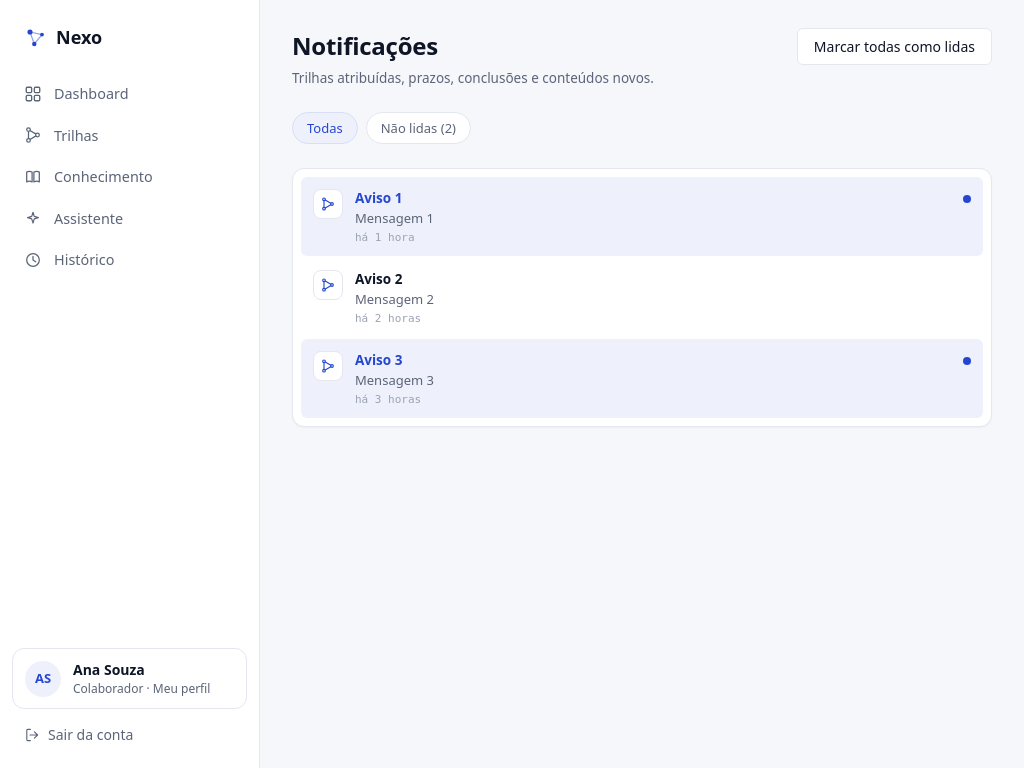
Scenario: NotificacoesPage › filtra só as não lidas
expect the text "Aviso 2" is shown: met, box [355, 270, 402, 288]
Click the button "Não lidas (2)".
click(418, 128)  # box [366, 112, 471, 144]
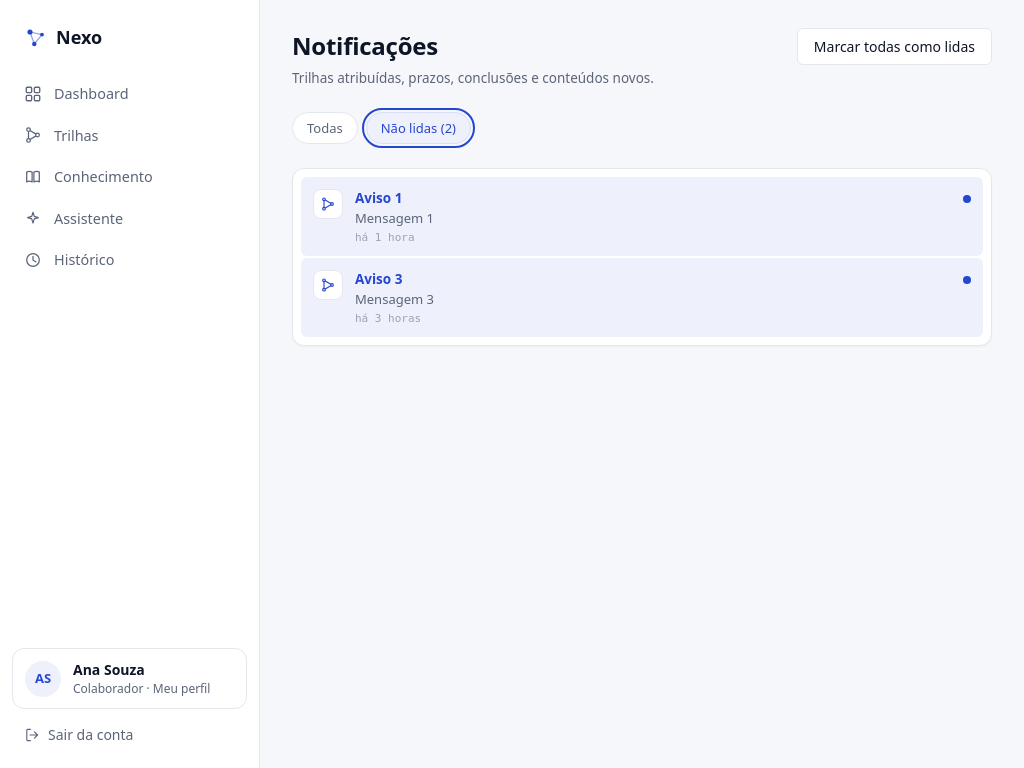
expect the text "Aviso 1" is shown: met, box [355, 189, 402, 207]
expect the button "Aviso 2" is gone: met
